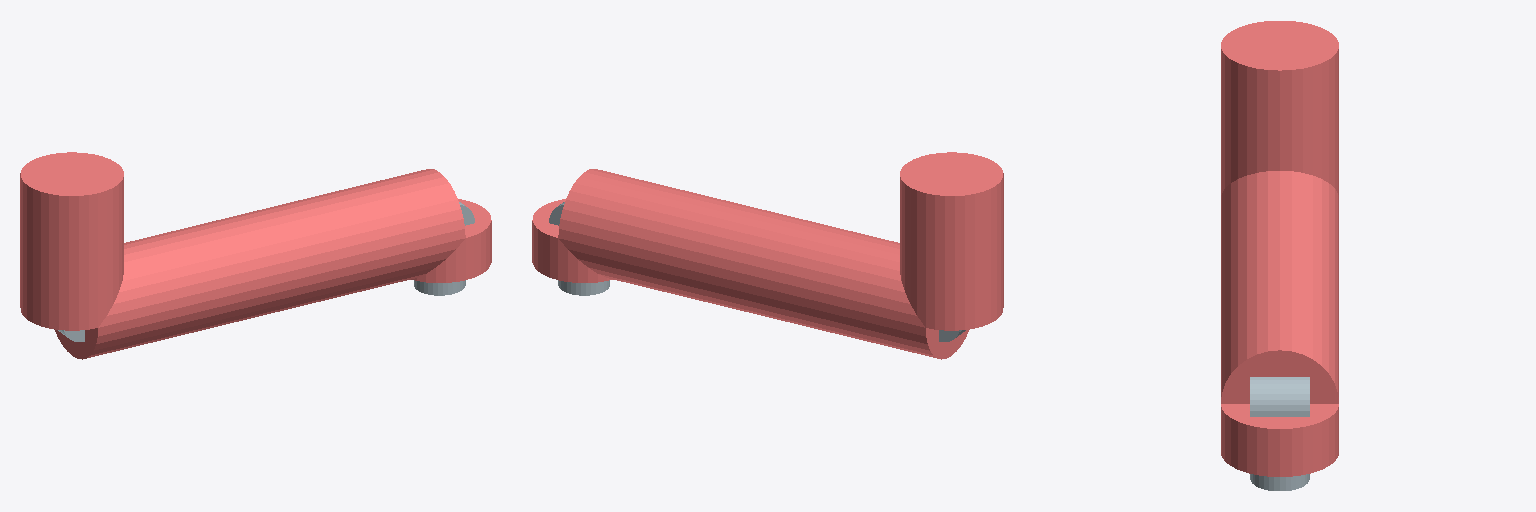
URDF robot description (GenericDH):
<robot name='GenericDH'>
	<material name='blue'>
		<color rgba='0 0 0.8 1'/>
	</material>
	<material name='red'>
		<color rgba='0.8 0 0 1'/>
	</material>
	<link name='a0'>
		<visual>
			<origin rpy='-0.0 0.0 0.0' xyz='0.0 0.0 0.0'/>
			<geometry>
				<cylinder length='0.1' radius='0.05'/>
			</geometry>
			<material name='blue'><color rgba='0.73 0.79 0.82 1'/></material>
		</visual>
	</link>
	<link name='l0'>
		<visual>
			<origin rpy='-0.0 0.0 0.0' xyz='0.0 0.0 0.0447295'/>
			<geometry>
				<cylinder length='0.089459' radius='0.1'/>
			</geometry>
			<material name='grey'><color rgba='0.99 0.54 0.54 1'/></material>
		</visual>
	</link>
	<joint name='move_l0_from_a0' type='continuous'>
		<parent link='a0'/>
		<child link='l0'/>
		<axis xyz='0.0 0.0 1.0'/>
		<origin rpy='0 0 0' xyz='0.0 0.0 0.0'/>
	</joint>
	<link name='a1'>
		<visual>
			<origin rpy='1.5707963267948966 0.0 0.0' xyz='0.0 0.0 0.089459'/>
			<geometry>
				<cylinder length='0.1' radius='0.05'/>
			</geometry>
			<material name='blue'><color rgba='0.73 0.79 0.82 1'/></material>
		</visual>
	</link>
	<joint name='fix_a1_to_l0' type='fixed'>
		<parent link='l0'/>
		<child link='a1'/>
		<origin rpy='0 0 0' xyz='0 0 0'/>
	</joint>
	<link name='l1'>
		<visual>
			<origin rpy='-0.0 -1.5707963267948963 0.0' xyz='-0.2125 -0.0 0.0'/>
			<geometry>
				<cylinder length='0.425' radius='0.1'/>
			</geometry>
			<material name='grey'><color rgba='0.99 0.54 0.54 1'/></material>
		</visual>
	</link>
	<joint name='move_l1_from_a1' type='continuous'>
		<parent link='a1'/>
		<child link='l1'/>
		<axis xyz='0.0 -1.0 0.0'/>
		<origin rpy='0 0 0' xyz='0.0 0.0 0.089459'/>
	</joint>
	<link name='a2'>
		<visual>
			<origin rpy='1.5707963267948966 0.0 0.0' xyz='-0.425 -0.0 0.0'/>
			<geometry>
				<cylinder length='0.1' radius='0.05'/>
			</geometry>
			<material name='blue'><color rgba='0.73 0.79 0.82 1'/></material>
		</visual>
	</link>
	<joint name='fix_a2_to_l1' type='fixed'>
		<parent link='l1'/>
		<child link='a2'/>
		<origin rpy='0 0 0' xyz='0 0 0'/>
	</joint>
	<link name='l2'>
		<visual>
			<origin rpy='-0.0 -1.5707963267948963 0.0' xyz='-0.196125 -0.0 0.0'/>
			<geometry>
				<cylinder length='0.39225' radius='0.1'/>
			</geometry>
			<material name='grey'><color rgba='0.99 0.54 0.54 1'/></material>
		</visual>
	</link>
	<joint name='move_l2_from_a2' type='continuous'>
		<parent link='a2'/>
		<child link='l2'/>
		<axis xyz='0.0 -1.0 0.0'/>
		<origin rpy='0 0 0' xyz='-0.425 -0.0 0.0'/>
	</joint>
	<link name='a3'>
		<visual>
			<origin rpy='1.5707963267948966 0.0 0.0' xyz='-0.39225 -0.0 0.0'/>
			<geometry>
				<cylinder length='0.1' radius='0.05'/>
			</geometry>
			<material name='blue'><color rgba='0.73 0.79 0.82 1'/></material>
		</visual>
	</link>
	<joint name='fix_a3_to_l2' type='fixed'>
		<parent link='l2'/>
		<child link='a3'/>
		<origin rpy='0 0 0' xyz='0 0 0'/>
	</joint>
	<link name='l3'>
		<visual>
			<origin rpy='-0.0 0.0 0.0' xyz='0.0 0.0 0.054575'/>
			<geometry>
				<cylinder length='0.10915' radius='0.1'/>
			</geometry>
			<material name='grey'><color rgba='0.99 0.54 0.54 1'/></material>
		</visual>
	</link>
	<joint name='move_l3_from_a3' type='continuous'>
		<parent link='a3'/>
		<child link='l3'/>
		<axis xyz='0.0 -1.0 0.0'/>
		<origin rpy='0 0 0' xyz='-0.39225 -0.0 0.0'/>
	</joint>
	<link name='a4'>
		<visual>
			<origin rpy='3.141592653589793 0.0 0.0' xyz='0.0 0.0 0.10915'/>
			<geometry>
				<cylinder length='0.1' radius='0.05'/>
			</geometry>
			<material name='blue'><color rgba='0.73 0.79 0.82 1'/></material>
		</visual>
	</link>
	<joint name='fix_a4_to_l3' type='fixed'>
		<parent link='l3'/>
		<child link='a4'/>
		<origin rpy='0 0 0' xyz='0 0 0'/>
	</joint>
	<link name='l4'>
		<visual>
			<origin rpy='-0.0 0.0 0.0' xyz='0.0 0.0 0.047325'/>
			<geometry>
				<cylinder length='0.09465' radius='0.1'/>
			</geometry>
			<material name='grey'><color rgba='0.99 0.54 0.54 1'/></material>
		</visual>
	</link>
	<joint name='move_l4_from_a4' type='continuous'>
		<parent link='a4'/>
		<child link='l4'/>
		<axis xyz='0.0 -1.2246467991473532e-16 -1.0'/>
		<origin rpy='0 0 0' xyz='0.0 0.0 0.10915'/>
	</joint>
	<link name='a5'>
		<visual>
			<origin rpy='1.5707963267948966 0.0 0.0' xyz='0.0 0.0 0.09465'/>
			<geometry>
				<cylinder length='0.1' radius='0.05'/>
			</geometry>
			<material name='blue'><color rgba='0.73 0.79 0.82 1'/></material>
		</visual>
	</link>
	<joint name='fix_a5_to_l4' type='fixed'>
		<parent link='l4'/>
		<child link='a5'/>
		<origin rpy='0 0 0' xyz='0 0 0'/>
	</joint>
	<link name='l5'>
		<visual>
			<origin rpy='-0.0 0.0 0.0' xyz='0.0 0.0 0.04115'/>
			<geometry>
				<cylinder length='0.0823' radius='0.1'/>
			</geometry>
			<material name='grey'><color rgba='0.99 0.54 0.54 1'/></material>
		</visual>
	</link>
	<joint name='move_l5_from_a5' type='continuous'>
		<parent link='a5'/>
		<child link='l5'/>
		<axis xyz='0.0 -1.0 0.0'/>
		<origin rpy='0 0 0' xyz='0.0 0.0 0.09465'/>
	</joint>
</robot>

--- What the picture shows (computed from the rendered views, not written in the file) ---
3 views of the same robot in one strip: view 1: azimuth 30°, elevation 25°; view 2: azimuth 150°, elevation 25°; view 3: azimuth 270°, elevation 25° (orthographic).
Model GenericDH with 12 links and 11 joints (6 continuous, 5 fixed), rooted at a0, posed every joint at zero.
Links seen in each view (by area): view 1: l1, l2, l5, l3, l4, l0, a0; view 2: l1, l2, l5, l3, l4, l0, a0; view 3: l1, l5, l2, l0, l4, a1, l3, a0.
Boxes of the visible links, box(x1,y1,x2,y2) form: l1: box(241, 169, 465, 314); l2: box(54, 215, 274, 359); l5: box(20, 152, 123, 234); l3: box(20, 256, 123, 330); l4: box(20, 212, 123, 278); l0: box(411, 199, 491, 282); a0: box(414, 280, 465, 295); l1: box(558, 169, 782, 314); l2: box(749, 215, 969, 359); l5: box(900, 152, 1003, 234); l3: box(900, 256, 1003, 330); l4: box(900, 212, 1003, 278); l0: box(532, 199, 612, 282); a0: box(558, 280, 609, 295); l1: box(1221, 244, 1338, 403); l5: box(1221, 21, 1338, 114); l2: box(1221, 171, 1338, 289); l0: box(1221, 404, 1338, 476); l4: box(1221, 93, 1338, 165); a1: box(1250, 377, 1309, 416); l3: box(1221, 144, 1338, 194); a0: box(1250, 474, 1309, 490).
Size in the robot's own frame: 1.02 by 0.2 by 0.4256 metres.
Geometry: primitives only (box / cylinder / sphere), no mesh files.